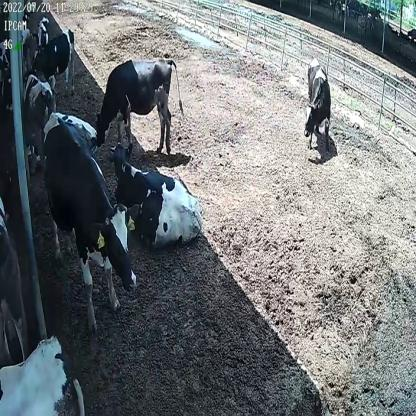cow: (39, 107, 138, 324), (106, 140, 203, 247), (92, 54, 184, 154), (24, 27, 77, 98), (301, 50, 332, 150), (33, 16, 51, 52)
